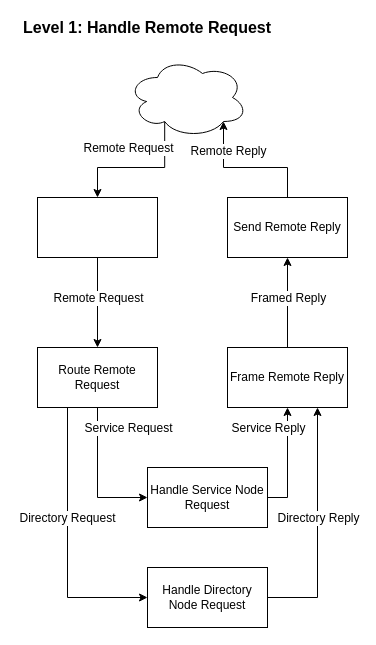
This 376x645 diagram has some shape labels left out. The centre of each missing label's shape, as x and y in pixels:
Internet: pixel 187 97
Receive Remote Request: pixel 97 227
